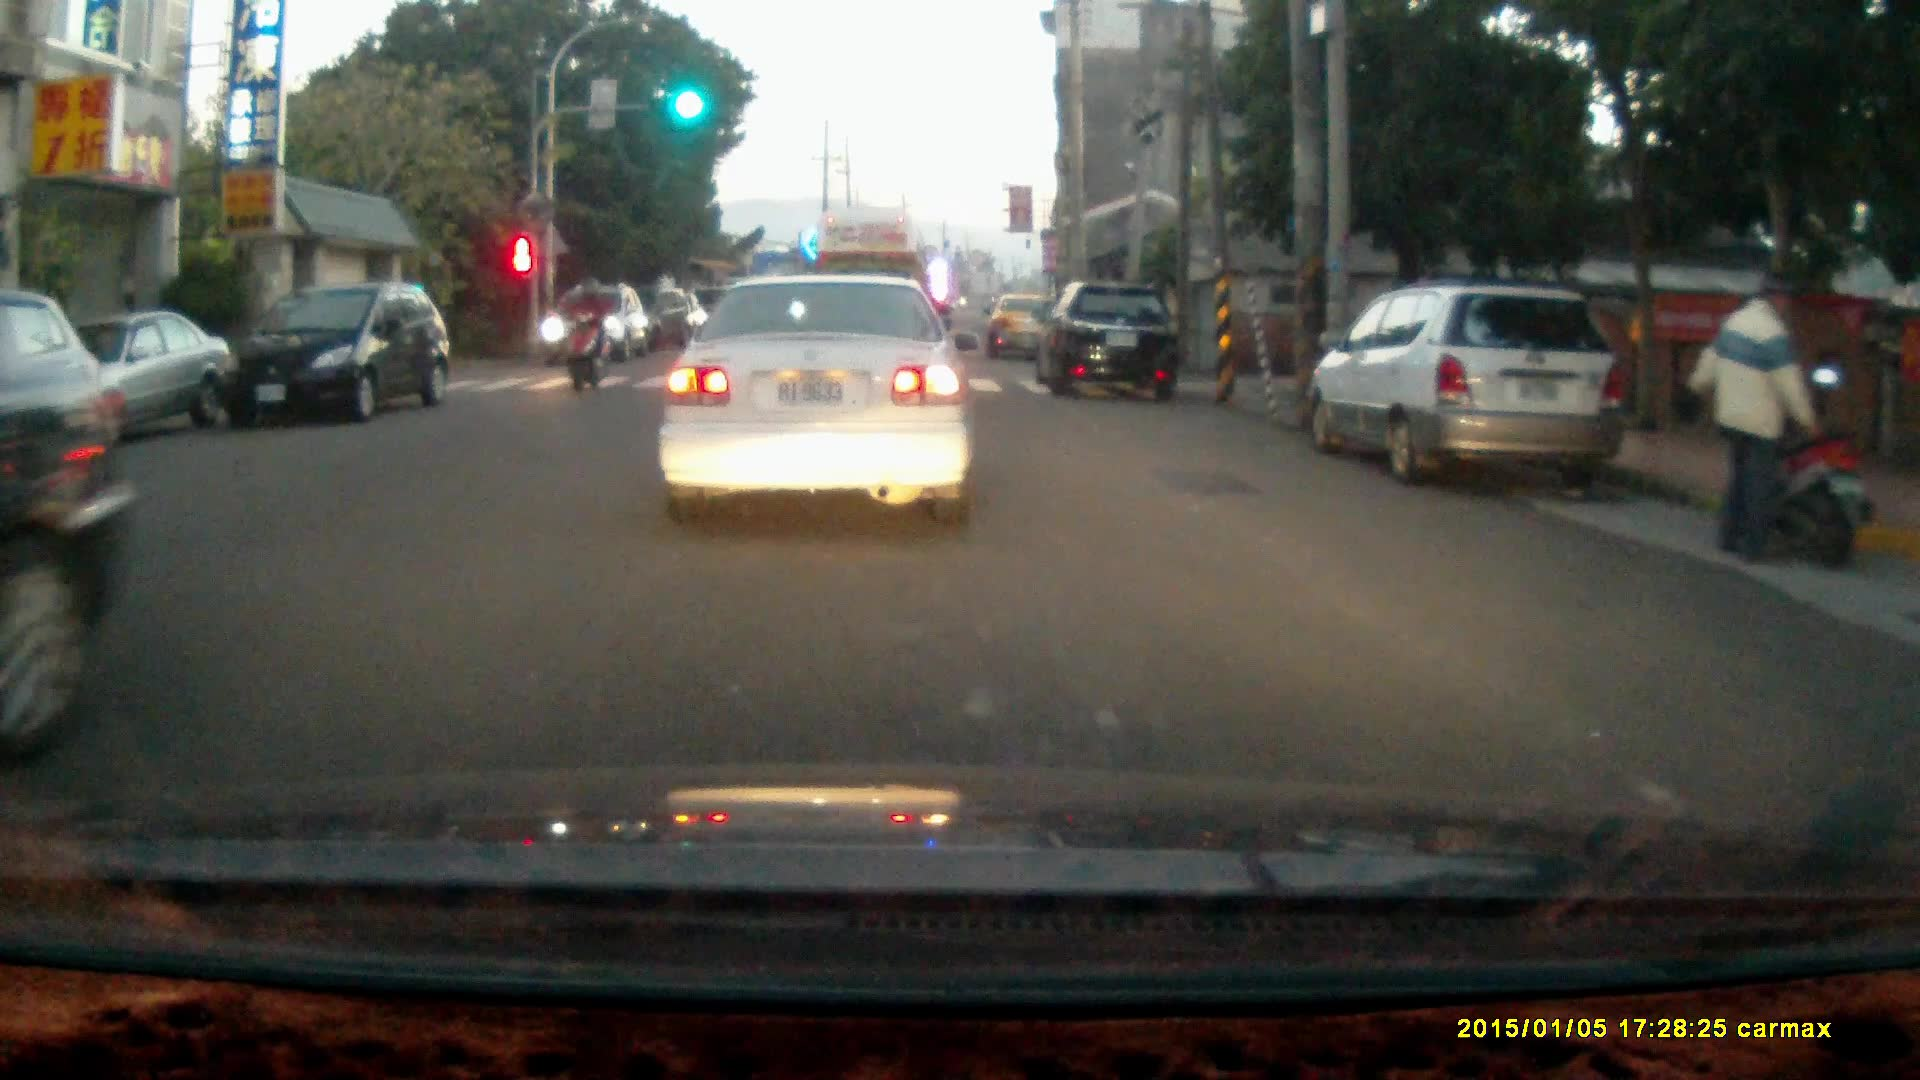pedestrian: (1688, 269, 1812, 567)
rider: (562, 274, 605, 391)
vehicle: (658, 271, 979, 524), (1316, 282, 1621, 486), (213, 284, 450, 429), (0, 309, 239, 447), (815, 204, 931, 365), (1034, 276, 1185, 396), (542, 283, 650, 360), (981, 294, 1070, 367)
